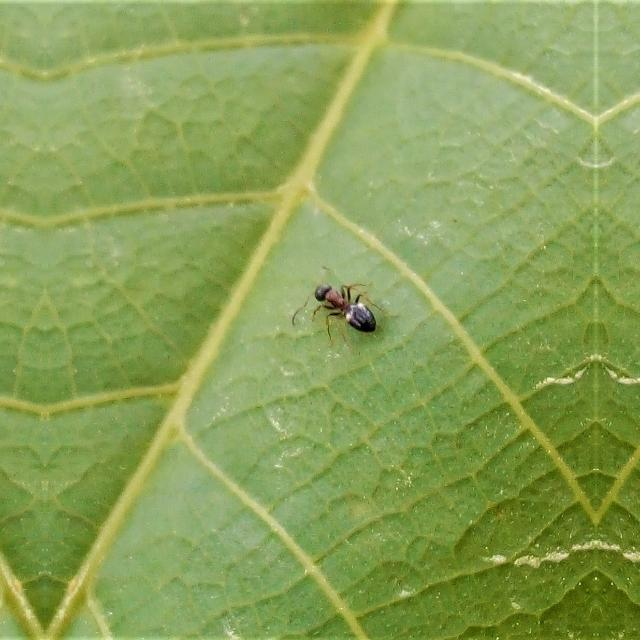Dolichoderus: (296, 268, 389, 348)
